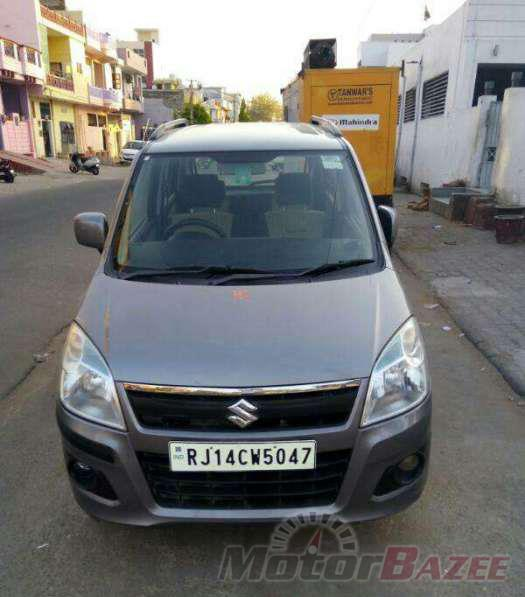car: (44, 110, 442, 533)
